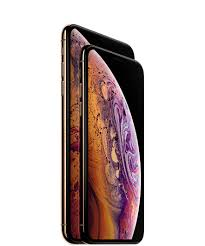iphone: (59, 23, 147, 244)
iphone10: (59, 23, 147, 244)
